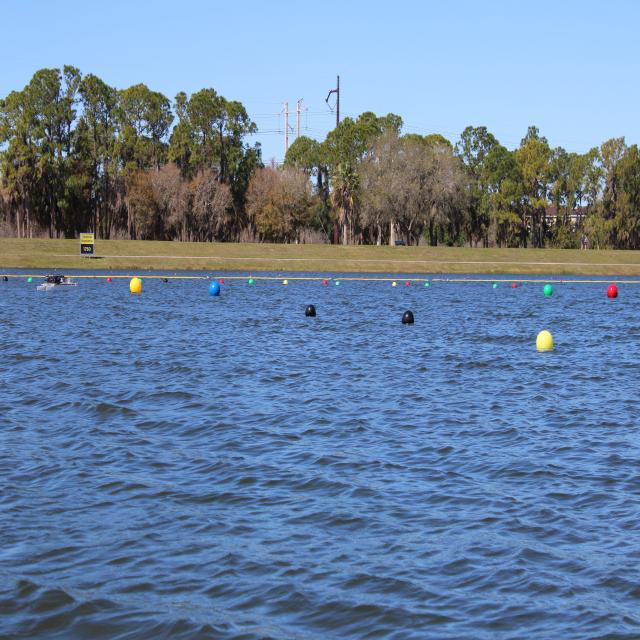black-buoy: (403, 311, 416, 325), (306, 304, 318, 318)
blue-buoy: (209, 281, 222, 297)
green-buoy: (543, 284, 552, 297), (248, 279, 255, 286)
red-buoy: (609, 284, 620, 299), (323, 279, 328, 286)
yellow-buoy: (538, 332, 556, 353), (131, 277, 143, 296), (392, 281, 397, 288)
